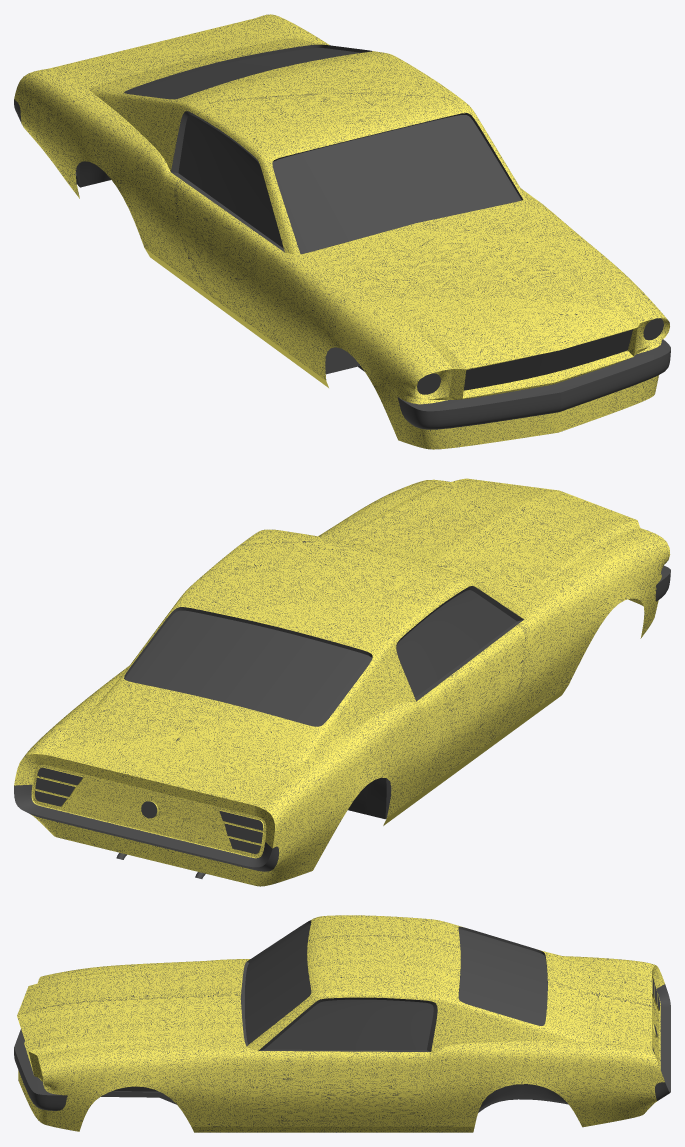
The model's file is Mustang.fbx.
3 views of the same model, one above another, from view 1: azimuth 30°, elevation 25°; view 2: azimuth 150°, elevation 25°; view 3: azimuth 270°, elevation 25° (orthographic). The views are drawn at different scales.
Visible parts, largest first — view 1: Hood, Roof.001, WindowFront.001, DoorLeft.004, PanelFrontRight, PanelRearRight, BumperFront, FasciaFront, Trunk.001, PanelTop.001, WindowRear.001, PanelFrontLeft (+3 smaller); view 2: Roof.001, Hood, WindowRear.001, DoorLeft.004, PanelRearRight, Trunk.001, PanelFrontRight, FasciaRear.002, BumperRear.001, PanelRear.001, FasciaRear.003, PanelRearLeft.001 (+4 smaller); view 3: DoorLeft.001, Roof.001, PanelRearLeft.001, PanelFrontLeft, Hood, WindowRear.001, WindowFront.001, Trunk.001, PanelTop.001, PanelLeft.002, BumperFront, PanelFrontRight (+5 smaller).
Boxes of the visible parts, x1,y1,x2,y2 form: Hood: (338, 221, 639, 369); Roof.001: (88, 38, 525, 254); WindowFront.001: (272, 113, 523, 254); DoorLeft.004: (165, 111, 286, 351); PanelFrontRight: (274, 252, 452, 448); PanelRearRight: (14, 68, 184, 276); BumperFront: (397, 339, 670, 449); FasciaFront: (414, 318, 669, 399); Trunk.001: (49, 18, 297, 88); PanelTop.001: (301, 200, 534, 268); WindowRear.001: (124, 44, 372, 99); PanelFrontLeft: (524, 194, 666, 353); Roof.001: (88, 529, 525, 765); Hood: (340, 478, 639, 589); WindowRear.001: (124, 607, 372, 726); DoorLeft.004: (396, 586, 541, 787); PanelRearRight: (251, 701, 434, 886); Trunk.001: (48, 714, 297, 815); PanelFrontRight: (523, 528, 670, 712); FasciaRear.002: (31, 764, 266, 858); BumperRear.001: (14, 784, 279, 871); PanelRear.001: (45, 819, 254, 885); FasciaRear.003: (35, 767, 264, 853); PanelRearLeft.001: (14, 666, 128, 837); DoorLeft.001: (252, 997, 437, 1126); Roof.001: (247, 915, 587, 1051); PanelRearLeft.001: (411, 1041, 664, 1127); PanelFrontLeft: (37, 1041, 257, 1131); Hood: (17, 966, 208, 1055); WindowRear.001: (458, 926, 547, 1025); WindowFront.001: (240, 920, 311, 1046); Trunk.001: (588, 961, 651, 1048); PanelTop.001: (203, 962, 246, 1046); PanelLeft.002: (191, 1126, 474, 1132); BumperFront: (14, 1029, 67, 1125); PanelFrontRight: (37, 959, 249, 983).
Size of the model in its own units: 168 by 105 by 452.
